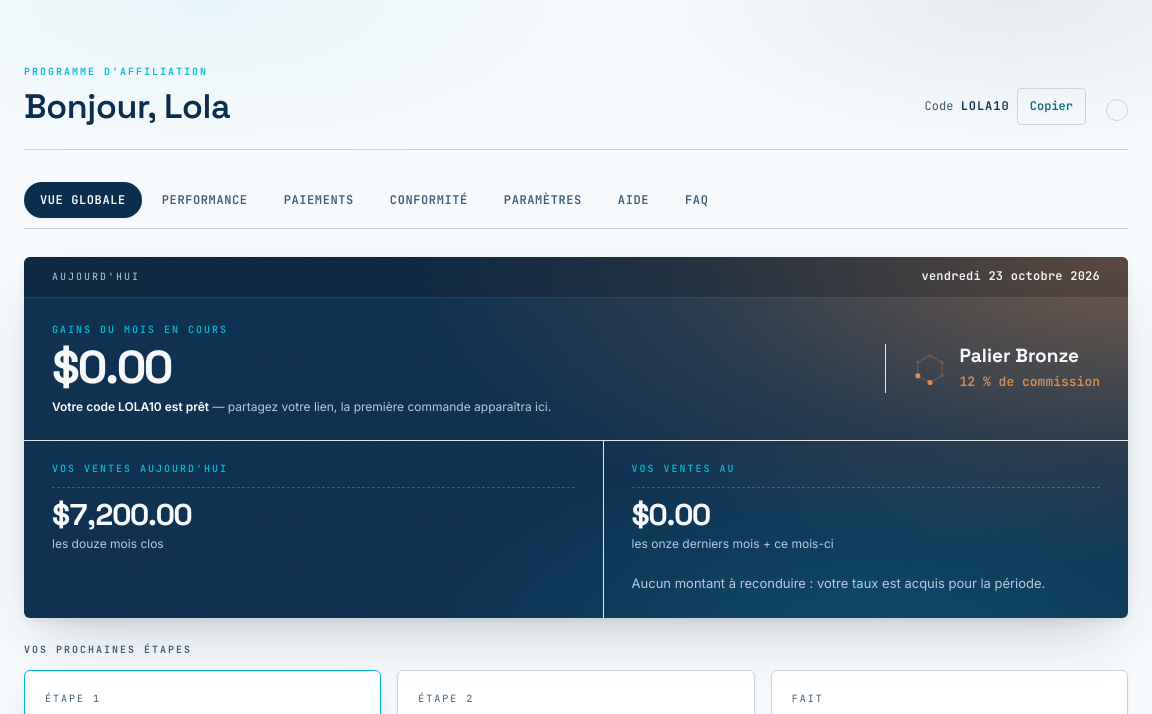
Test: le dernier versement payé › il porte le montant, la DATE DU PAIEMENT et la référence
Click the button with test id "affiliate-tab-payments".
click(319, 200)  # box [268,182,370,218]
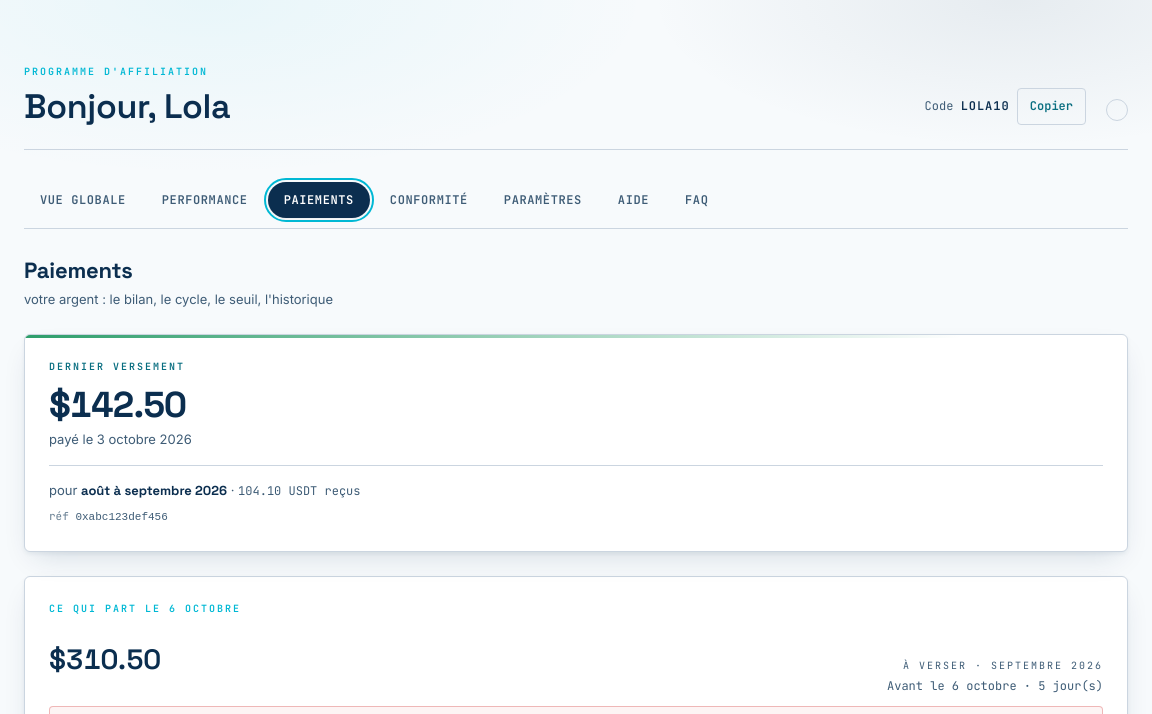
Expected: the text with test id "dernier-montant" shows "142.50", [49,382,186,428]
Expected: the text with test id "dernier-date" shows "2026", [49,431,192,447]
Expected: the element that starts with "Dernier versement" shows "0xabc123def456", [75,511,168,523]
